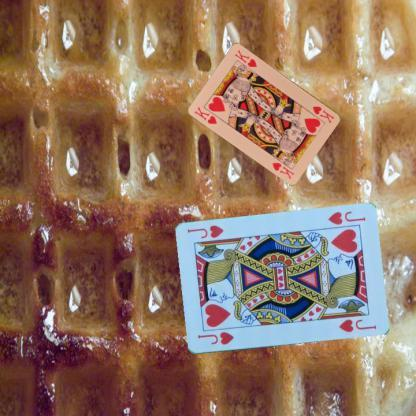Jh: (325, 209, 367, 227), (194, 329, 235, 347)
Kh: (192, 104, 219, 126), (310, 104, 336, 125)
